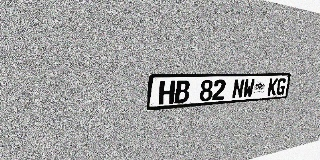plate: (147, 73, 291, 111)
